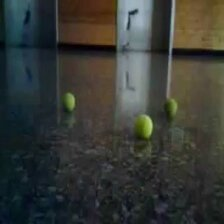tennis: (134, 114, 153, 140), (62, 92, 75, 112), (164, 98, 177, 118)
